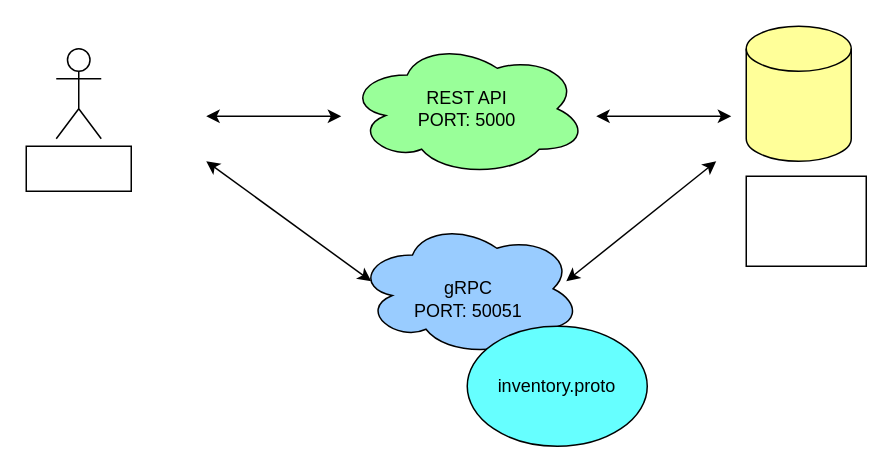
Some shapes in this 893 by 473 pixel diagram are drawn without their labels. Here are the shapes that lost their labels. From the top down, the centre of each, then its label:
At [78,168]: "Client".
At [805,220]: "QuestDB PORT: 9000".
